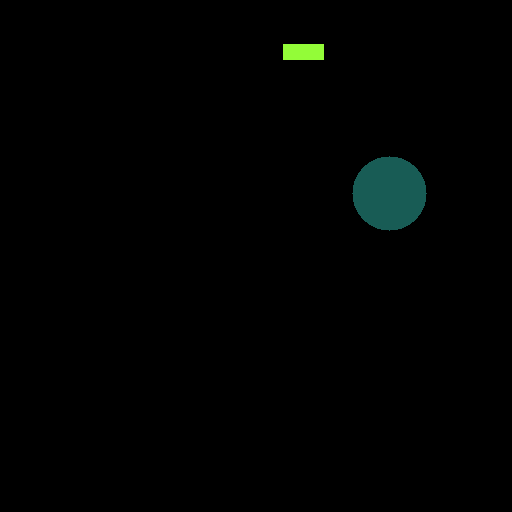circle: (350, 154, 429, 229)
side_rect: (284, 42, 326, 61)
